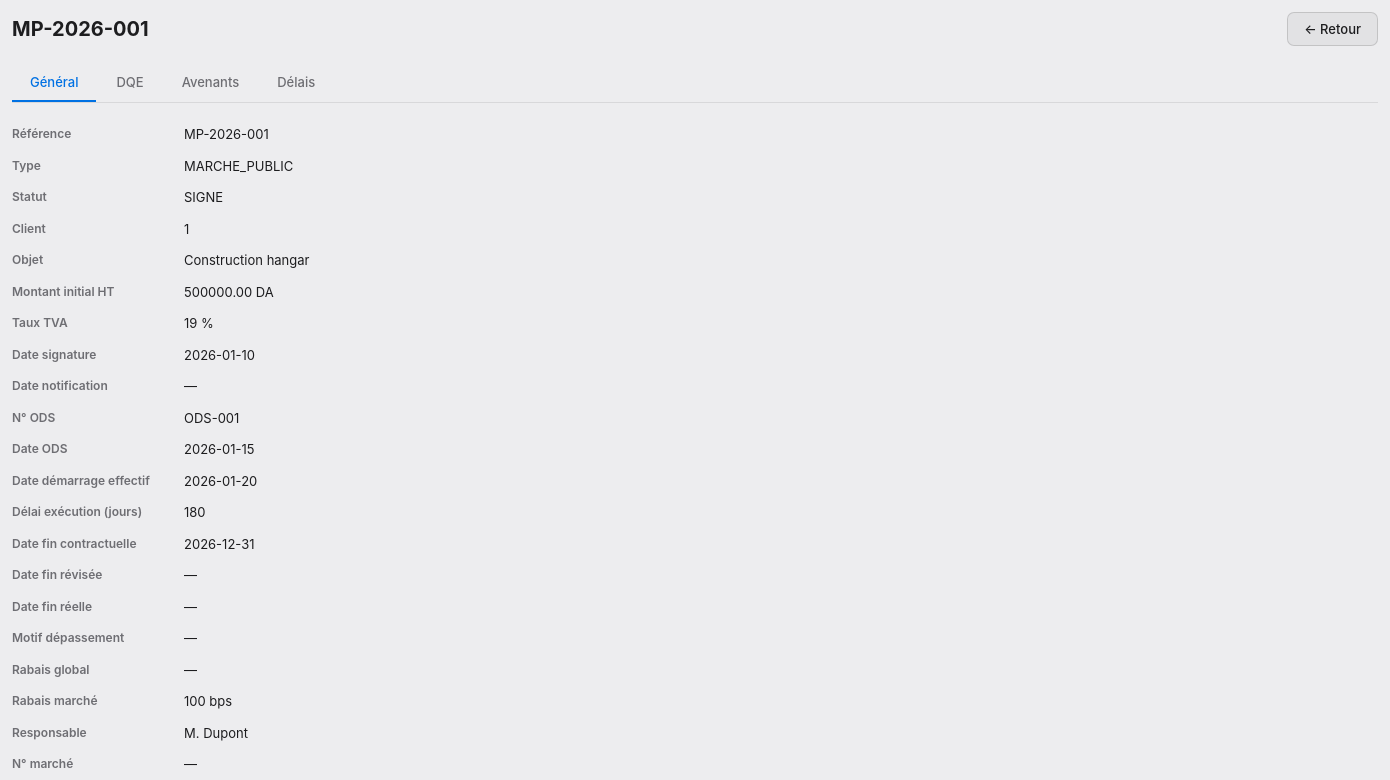
Test: R12 - Fiche Affaire › affiche l'onglet DQE avec la grille
The width and height of the screenshot is (1390, 780).
What coordinates should you click on to do the following:
click the tab "DQE"
I would click on:
 (130, 83)
Its box is [98,64,162,102].
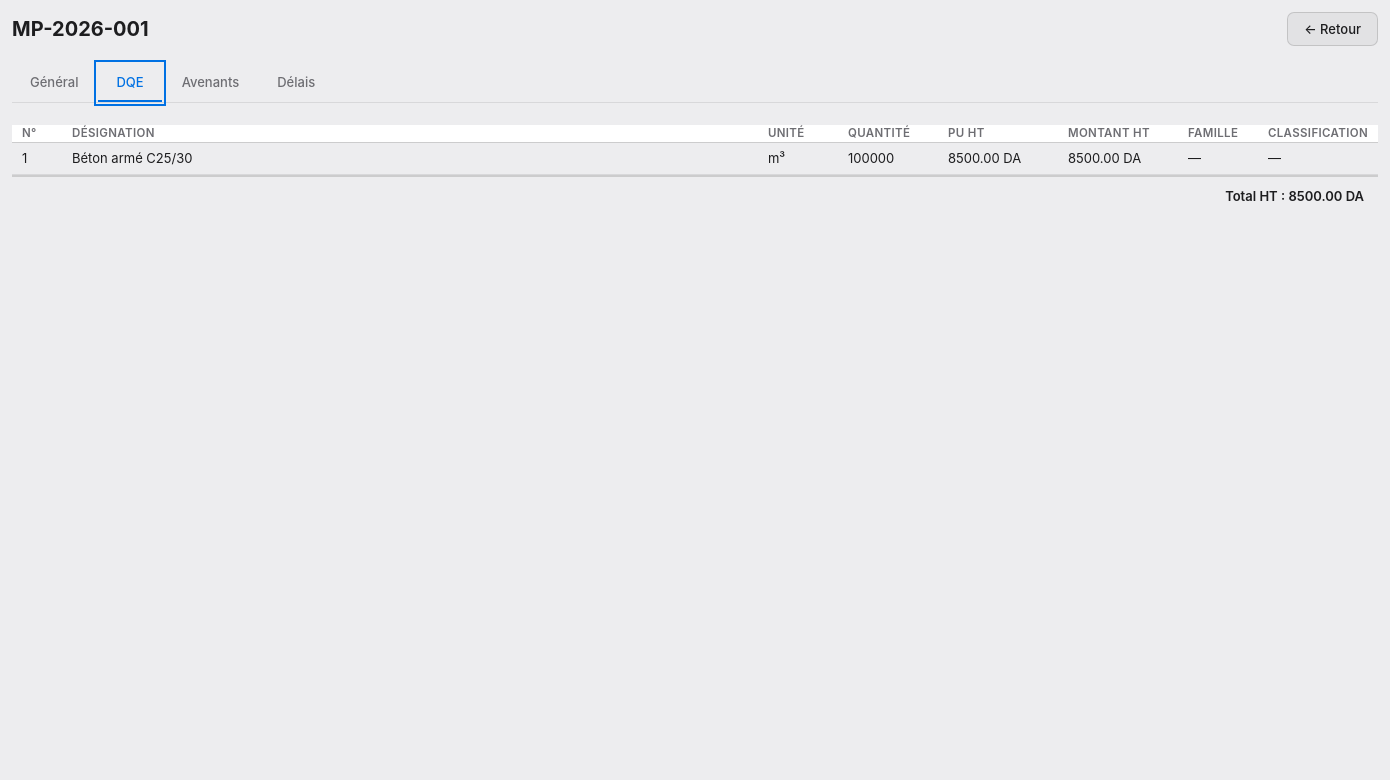
Check: the text "Béton armé C25/30" is shown, box [62,143,758,175]
